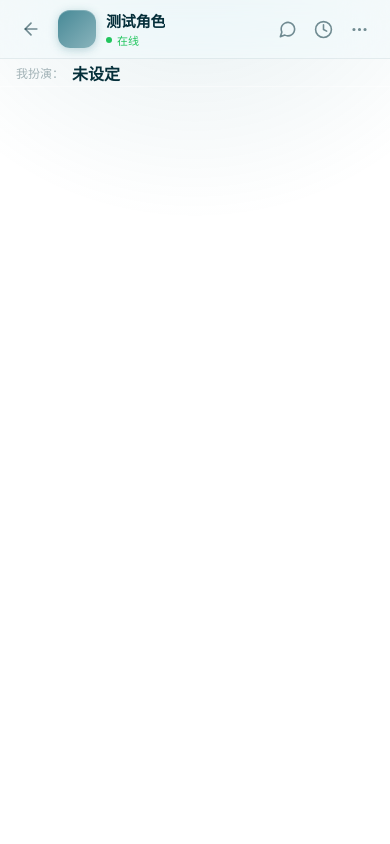
Scenario: ChatArea 内心活动按钮（affinity 门控回归） › 点击弹层外部能关闭（外部点击选择器随类名改版同步）
Step 1. Click the button named "内心之声" → [287, 29], box [270,12,304,46]
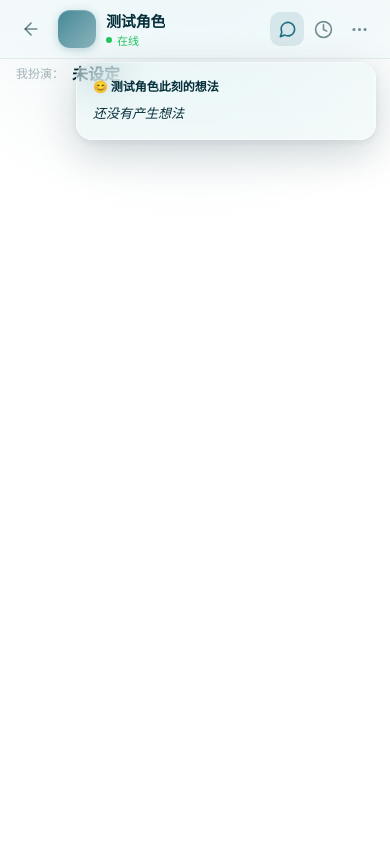
Check: the element with class "dm-inner-voice" is shown, box [76,62,376,140]
Step 2. Press the mouse on the element that starts with "测试角色" → [195, 422], box [0,0,389,843]
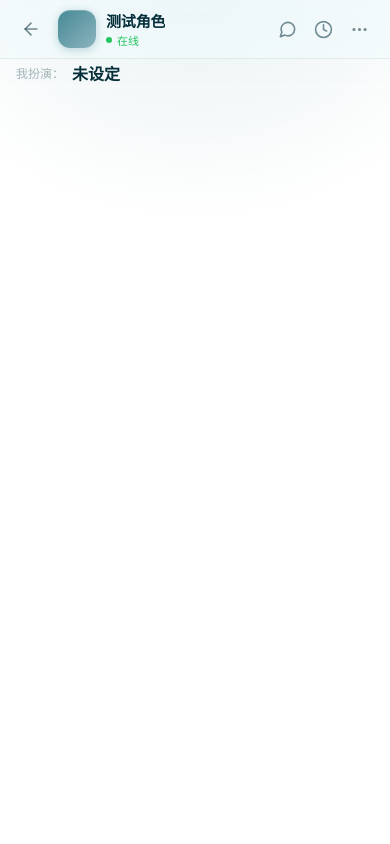
Check: the element with class "dm-inner-voice" is gone
